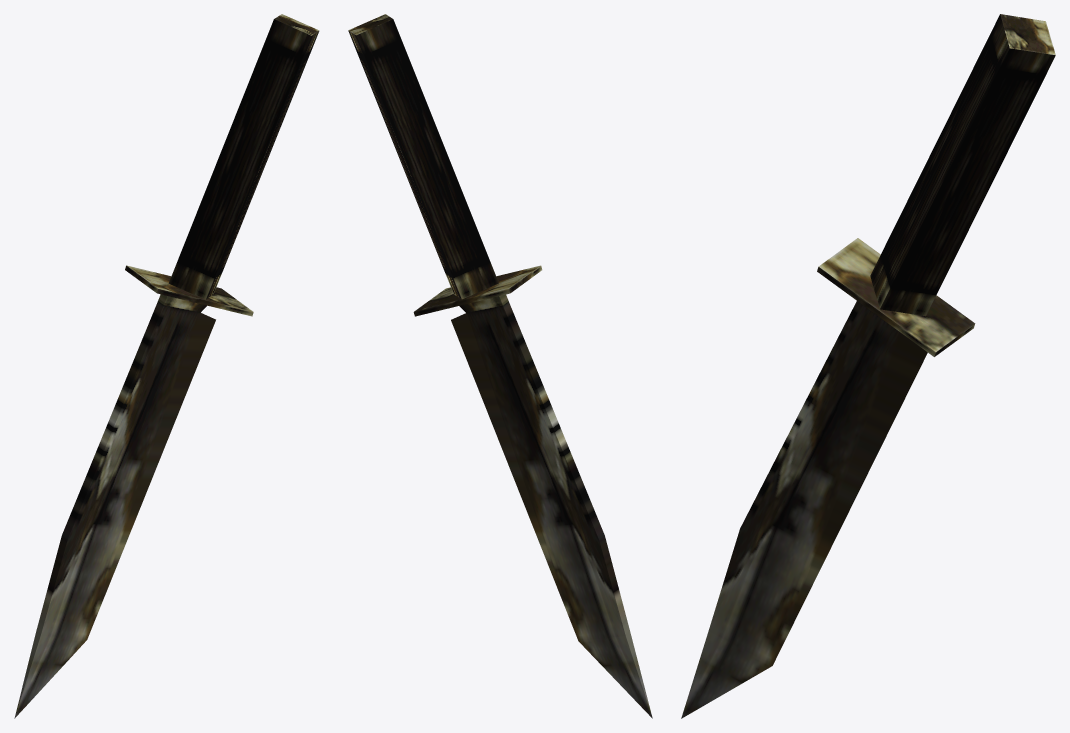
Rendered from delicon.ico.obj.
3 renders of one model, left to right at view 1: azimuth 30°, elevation 25°; view 2: azimuth 150°, elevation 25°; view 3: azimuth 330°, elevation 25°, orthographic. The views are drawn at different scales.
Size of the model in its own units: 2.26 by 4.5 by 0.4104.
1 material, 1 textured.
